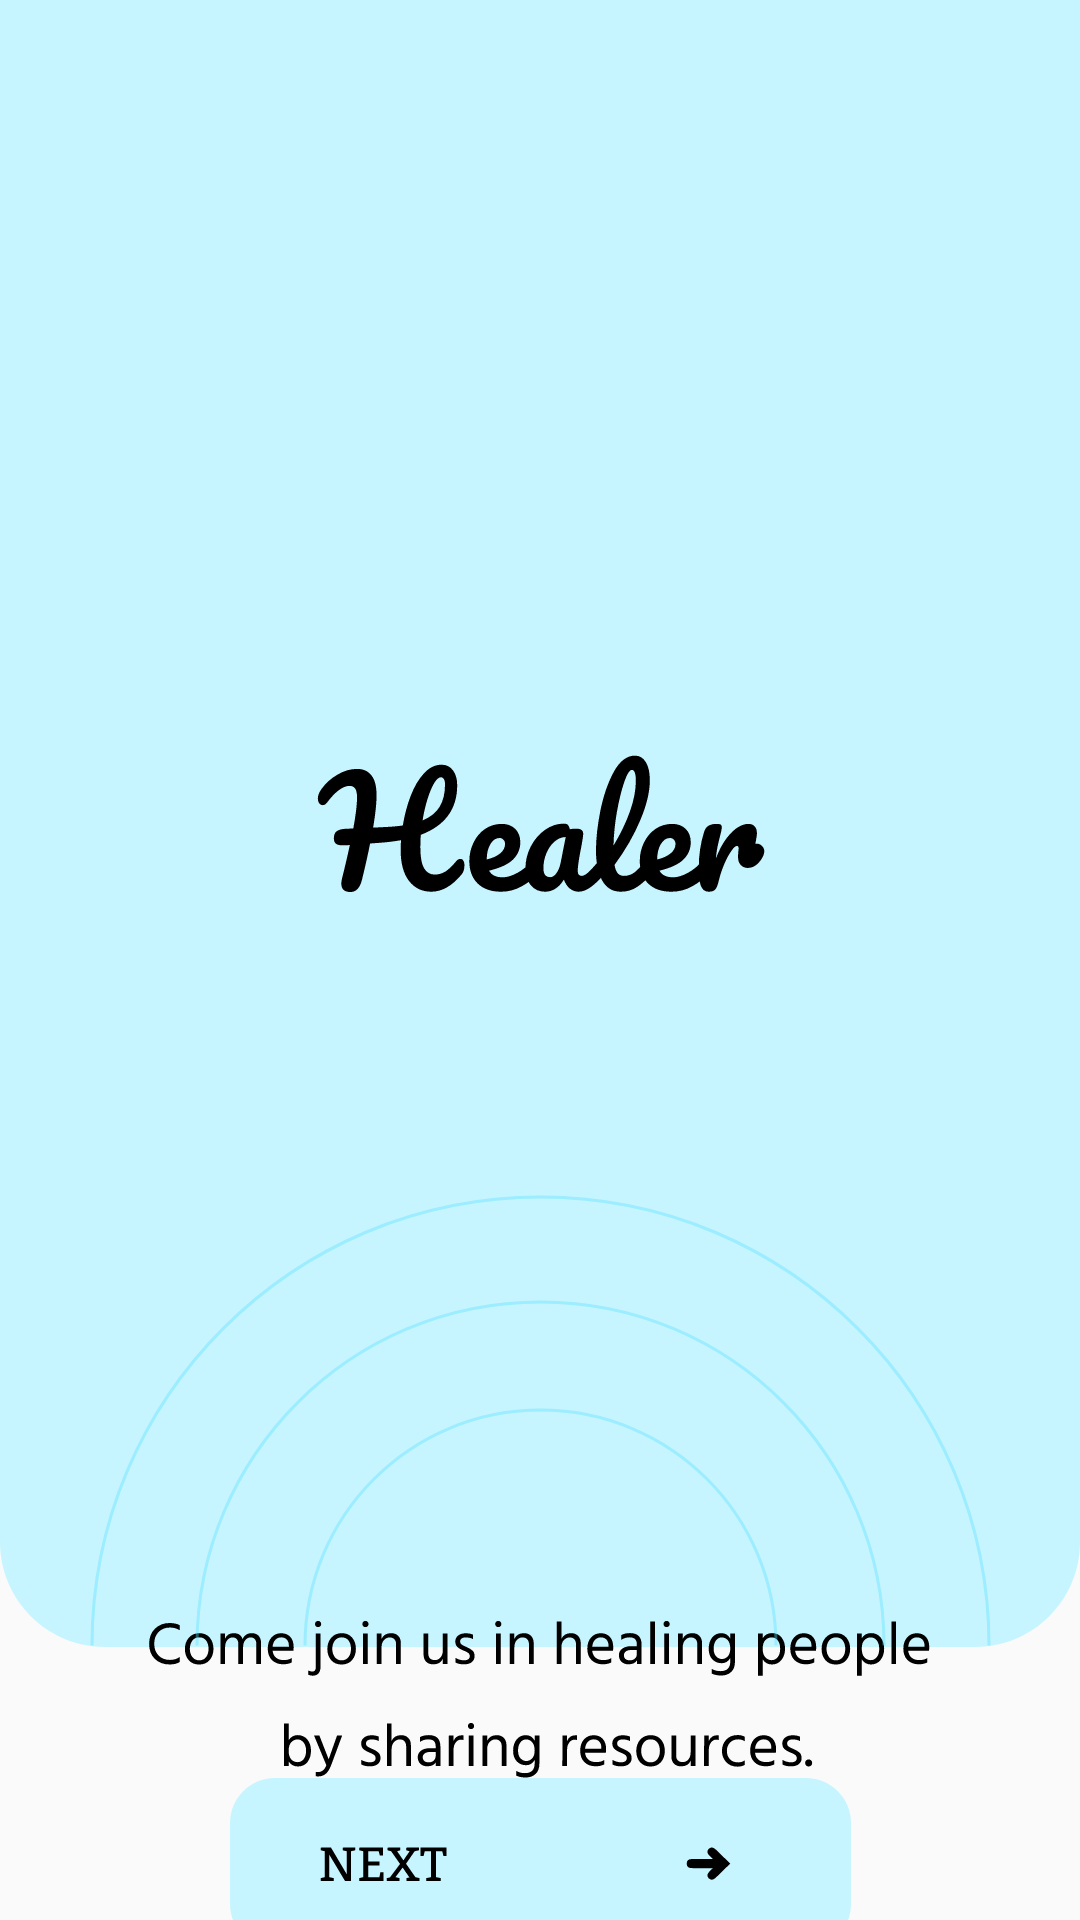

Screen size 1080px×1920px. Icon name, then its box in pixels as (x1, y1, x2, y2):
arrow: (686, 1847, 730, 1880)
